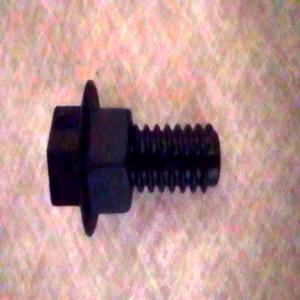parafuso: (45, 80, 220, 235)
